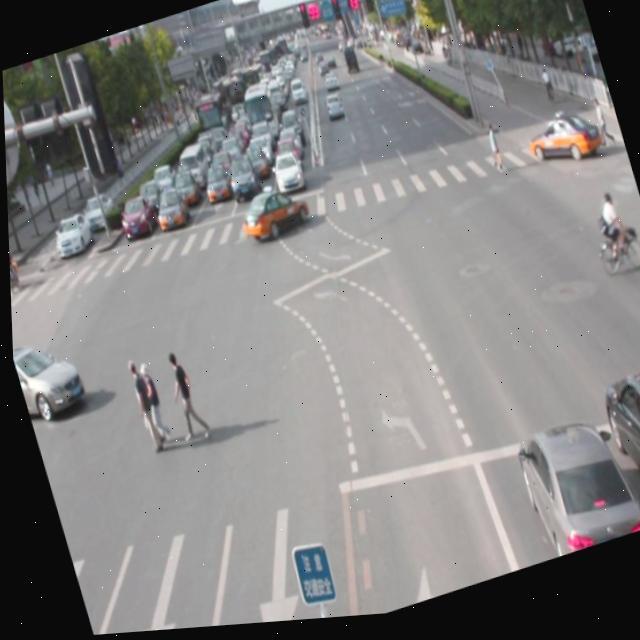car: (508, 422, 637, 570), (593, 373, 640, 542), (232, 183, 308, 248)
